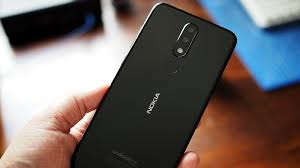nokia: (58, 2, 240, 168)
